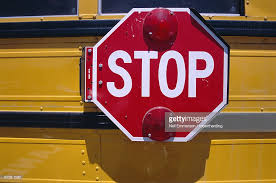Stop: (92, 3, 252, 145)
